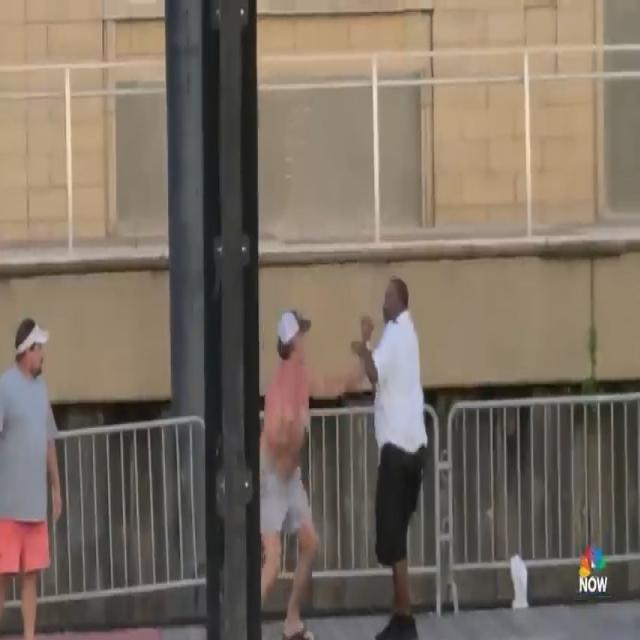fight: (261, 274, 430, 640)
non-fight: (0, 313, 68, 640)
